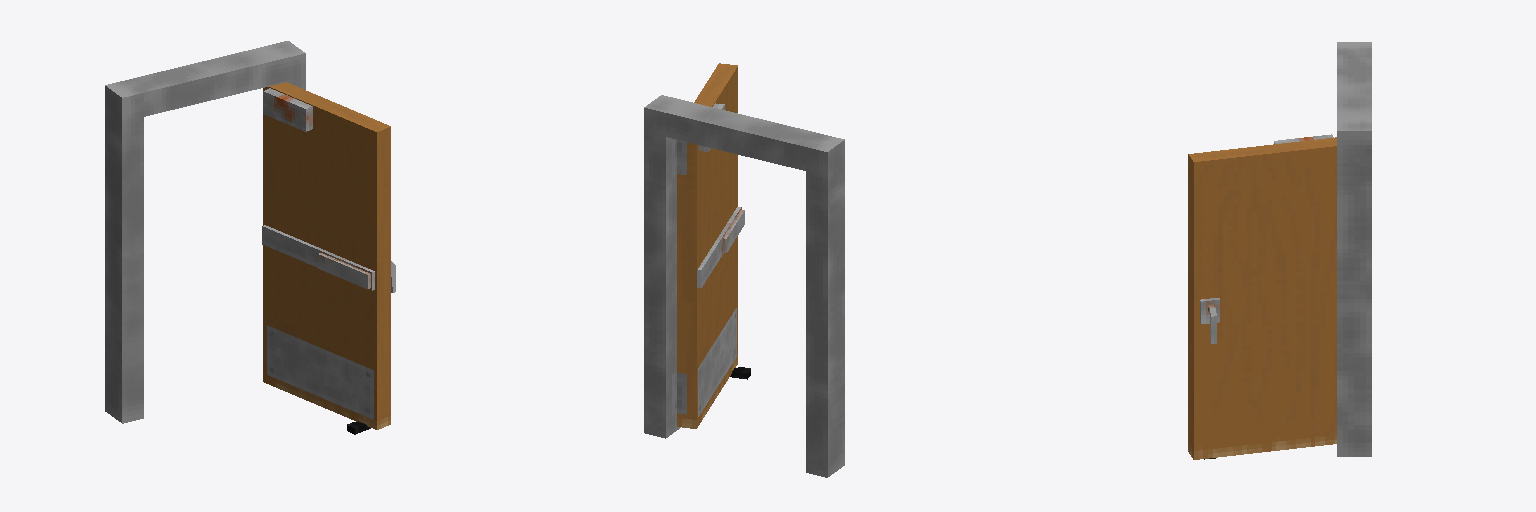
3 renders of one model, left to right at view 1: azimuth 30°, elevation 25°; view 2: azimuth 150°, elevation 25°; view 3: azimuth 270°, elevation 25°, orthographic.
Visible parts, largest first — view 1: door, doorFrame, pushHandle, block; view 2: doorFrame, door, pushHandle; view 3: door, doorFrame, turnHandle.
Boxes of the visible parts, <box> form: door: <box>263,82,390,429</box>; doorFrame: <box>105,41,305,423</box>; pushHandle: <box>262,225,374,290</box>; block: <box>263,88,312,131</box>; doorFrame: <box>644,95,844,477</box>; door: <box>677,63,737,428</box>; pushHandle: <box>697,207,744,287</box>; door: <box>1188,137,1336,459</box>; doorFrame: <box>1337,42,1371,456</box>; turnHandle: <box>1200,298,1219,343</box>.
Bounding box in the file's own units: 1.51 × 2.23 × 1.13.
Materials: 1 (1 with a texture image).